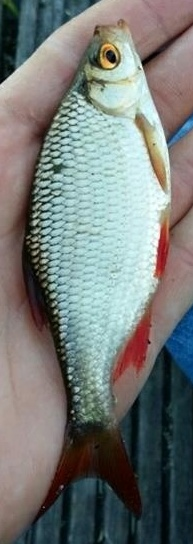Scardinius erythrophthalmus: (20, 20, 173, 524)
